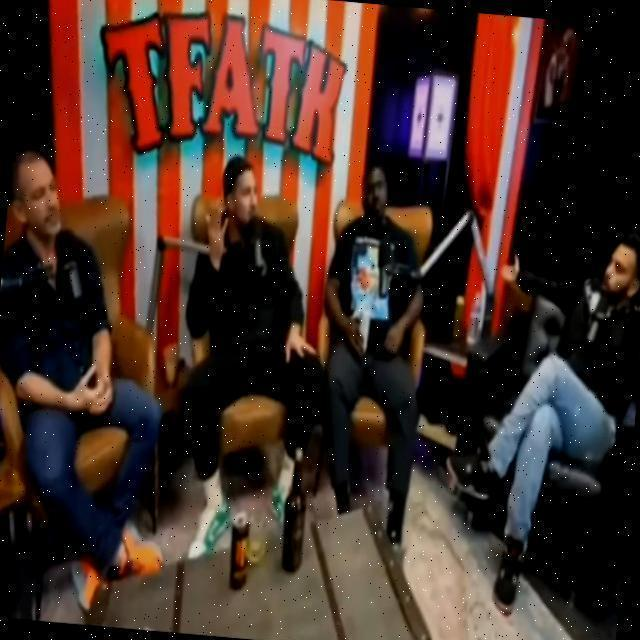person: (0, 135, 195, 582), (177, 138, 334, 556), (473, 226, 640, 612), (308, 152, 441, 556)
